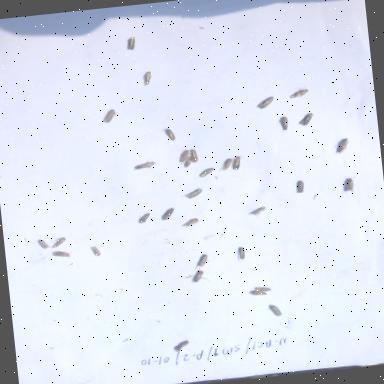pbw: (290, 174, 310, 195), (122, 35, 144, 54), (264, 303, 290, 319), (231, 242, 250, 263), (186, 266, 208, 284), (132, 158, 158, 173), (274, 114, 295, 132), (256, 95, 278, 112), (48, 248, 74, 262), (182, 186, 204, 202), (170, 338, 192, 354), (288, 84, 310, 100), (158, 204, 177, 222), (33, 236, 52, 254), (218, 156, 234, 176), (248, 206, 269, 220), (88, 243, 105, 260), (100, 108, 118, 124), (230, 153, 245, 172), (298, 112, 315, 128), (194, 254, 213, 268), (246, 288, 268, 300), (180, 216, 200, 229), (162, 126, 176, 143), (52, 236, 70, 249), (343, 176, 356, 194), (336, 138, 349, 156), (197, 166, 216, 178), (140, 70, 154, 86), (252, 284, 274, 294), (178, 149, 192, 164), (188, 148, 201, 164), (137, 212, 152, 224), (182, 155, 194, 169)
